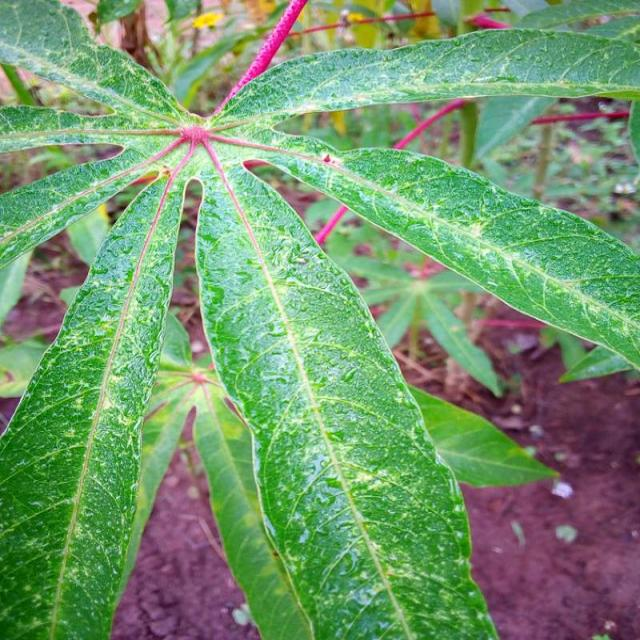cassava leaf: (0, 1, 638, 638), (192, 155, 500, 638), (0, 160, 188, 638)
